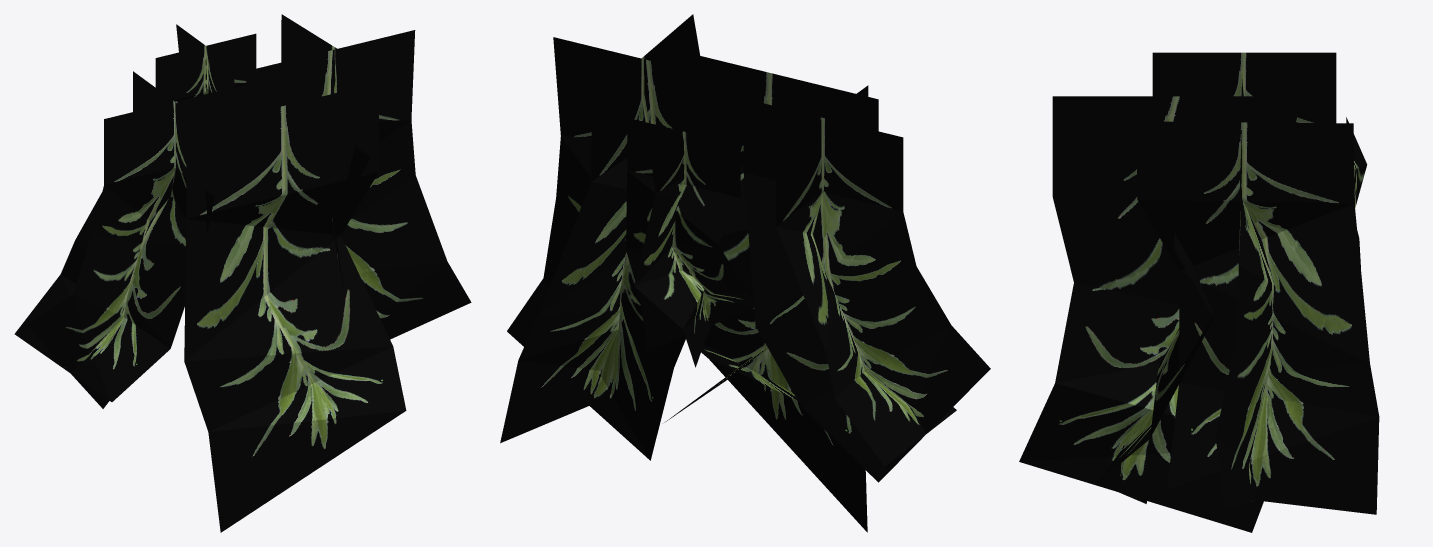
Rendered from greenLeaves.FBX.
3 renders of one model, left to right at view 1: azimuth 30°, elevation 25°; view 2: azimuth 150°, elevation 25°; view 3: azimuth 270°, elevation 25°, orthographic. The views are drawn at different scales.
Visible parts, largest first — view 1: TexturesCom_NaturePlants0033_1_S003; view 2: TexturesCom_NaturePlants0033_1_S003; view 3: TexturesCom_NaturePlants0033_1_S003.
Boxes of the visible parts, bbox=[...] form: TexturesCom_NaturePlants0033_1_S003: bbox=[14, 14, 471, 532]; TexturesCom_NaturePlants0033_1_S003: bbox=[500, 14, 990, 532]; TexturesCom_NaturePlants0033_1_S003: bbox=[1019, 52, 1379, 532].
Size of the model in its own units: 68.46 by 62.64 by 48.29.
